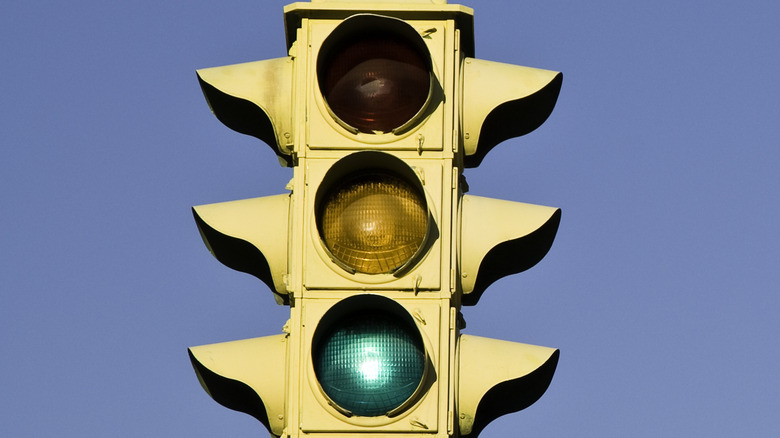TraficLight: (194, 12, 575, 431)
